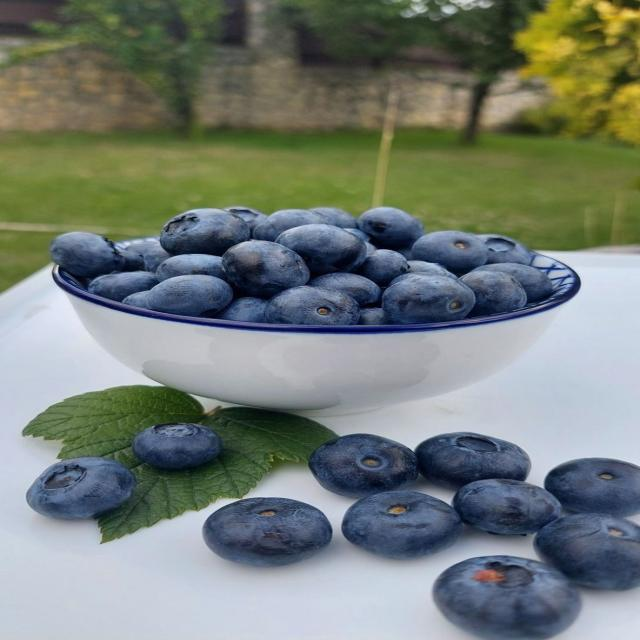blueberry: (434, 556, 580, 639), (203, 498, 332, 566), (342, 491, 462, 558), (534, 514, 639, 590), (309, 434, 418, 497), (27, 457, 136, 519), (415, 432, 531, 489), (453, 479, 561, 534), (545, 458, 639, 517), (223, 240, 309, 298), (382, 274, 474, 324), (276, 224, 366, 275), (160, 209, 250, 255), (132, 424, 222, 469), (266, 286, 359, 325), (149, 275, 233, 316), (50, 232, 125, 277), (413, 231, 486, 273), (475, 263, 553, 302), (460, 270, 526, 316), (358, 207, 423, 248), (309, 273, 381, 305), (253, 210, 326, 241), (88, 272, 158, 301), (156, 254, 226, 281), (358, 250, 408, 286), (478, 235, 531, 264), (216, 297, 267, 323), (389, 268, 458, 286), (120, 240, 159, 270), (225, 206, 266, 230), (311, 207, 357, 228), (408, 261, 457, 278), (144, 243, 171, 271), (122, 290, 151, 309), (359, 308, 387, 325), (346, 228, 370, 243), (394, 246, 413, 261), (365, 242, 378, 255)
